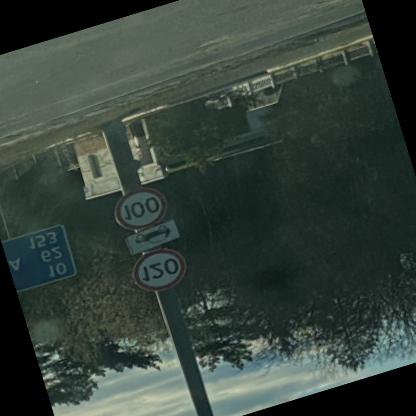speedlimit: (126, 244, 188, 300), (108, 184, 170, 237)
